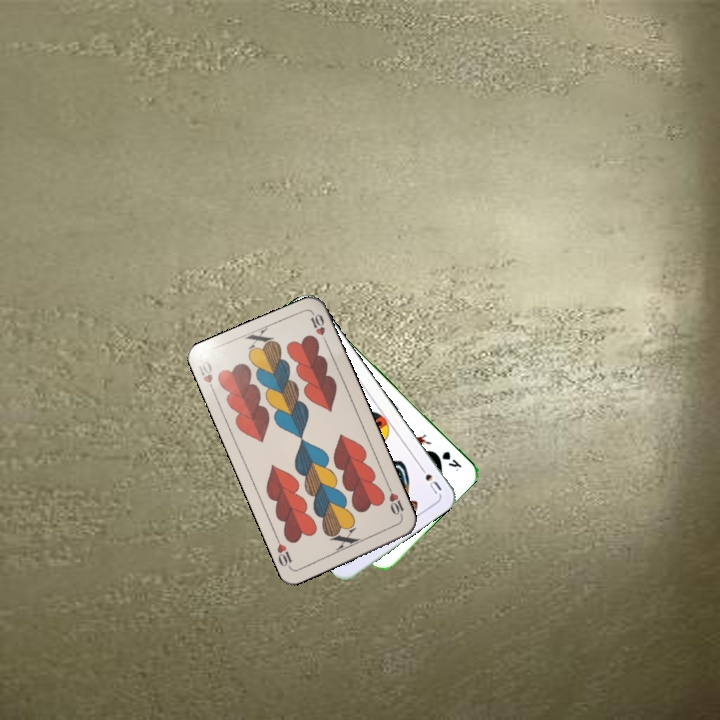GK: (438, 447, 464, 474)
H10: (195, 357, 218, 397), (384, 483, 407, 522)
SU: (415, 461, 444, 497)
